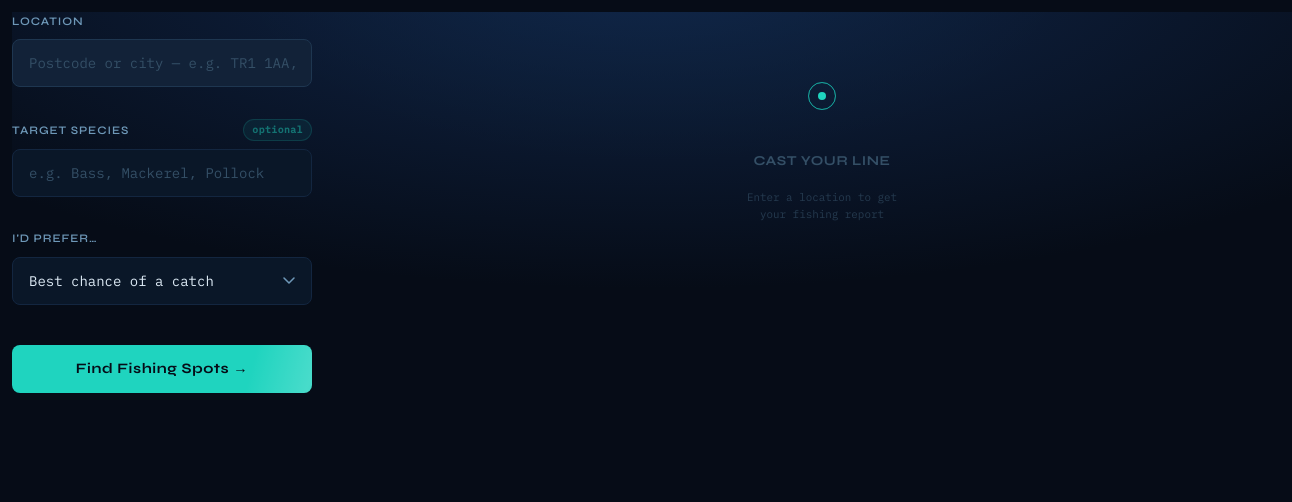
Test: FishingForm › error state › shows a server error message on a 500
Type "TR1 1AA" into the field labelled "Location" at (162,63), box top-left (12, 39), bottom-right (312, 87)
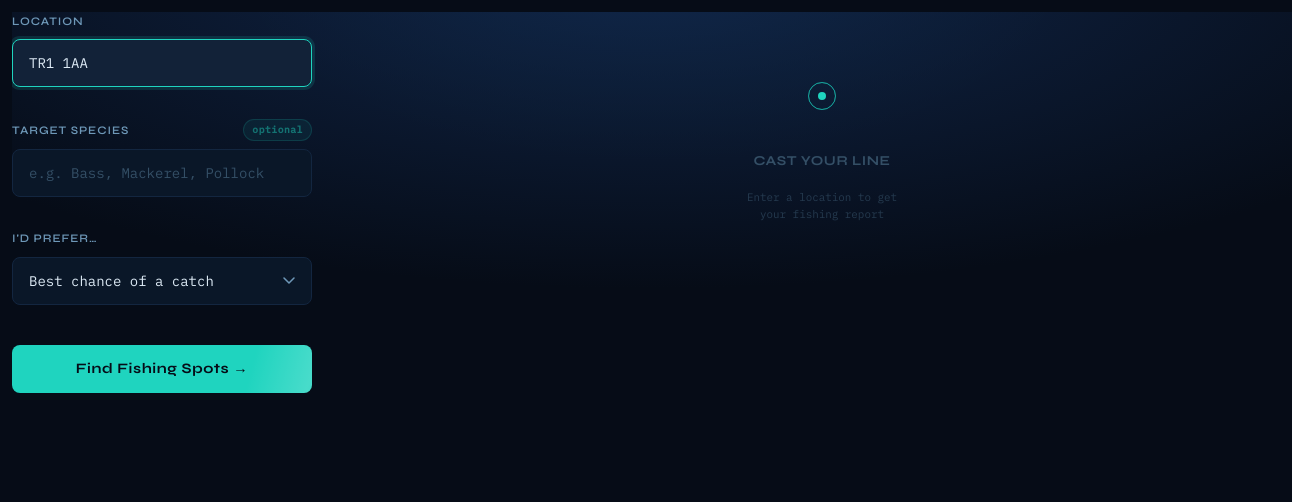
Click the button "Find Fishing Spots →" at (162,369), box top-left (12, 345), bottom-right (312, 393)
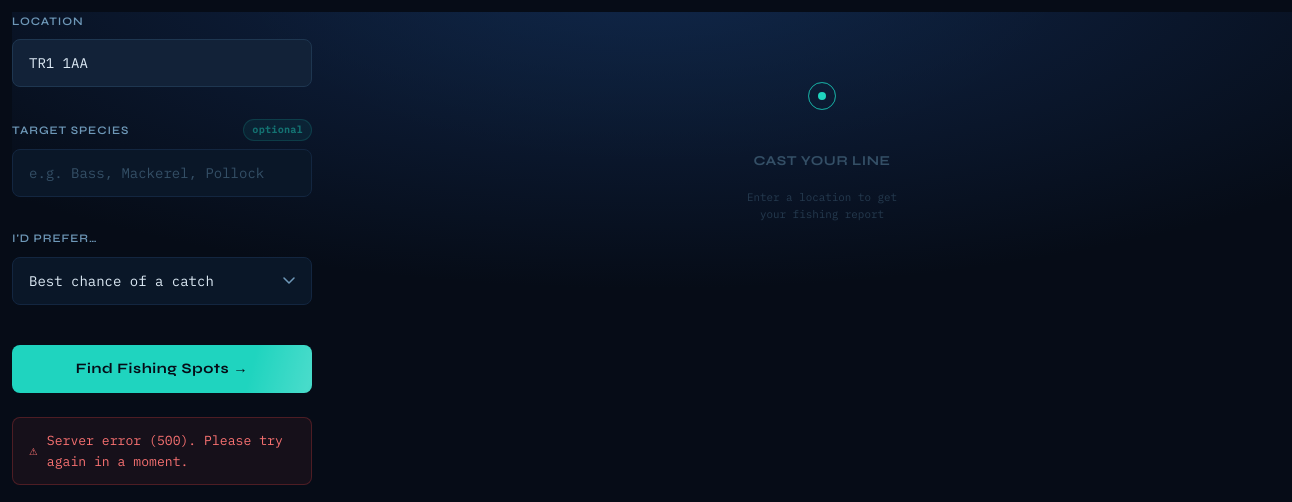
Result: the message shows "Server error" at top-left (47, 432), bottom-right (283, 470)
